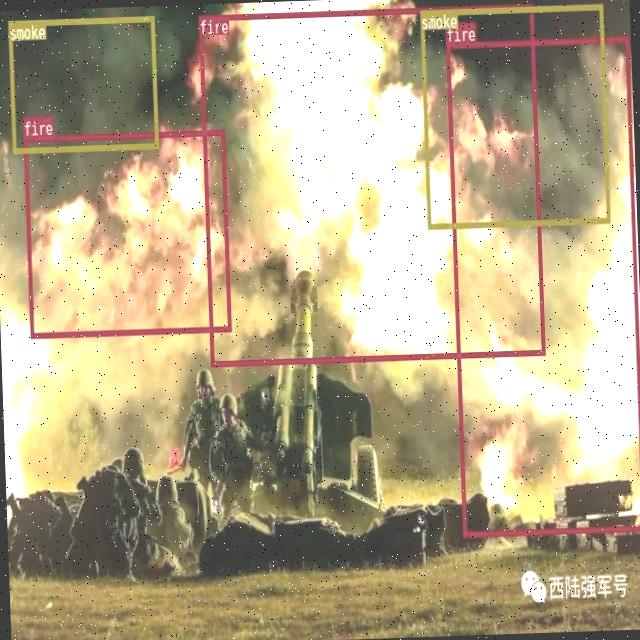fire: (198, 3, 544, 365), (445, 35, 640, 535), (23, 128, 231, 336)
smoke: (418, 3, 610, 228), (7, 16, 157, 152)
